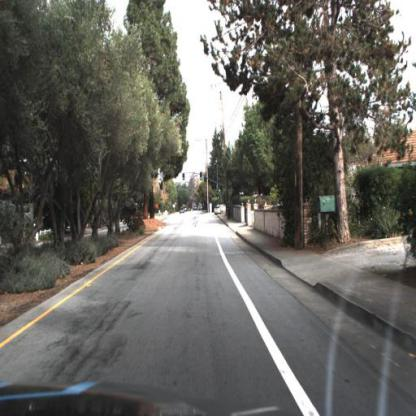car: (212, 200, 230, 221)
trafficLight-Green: (198, 167, 203, 182)
